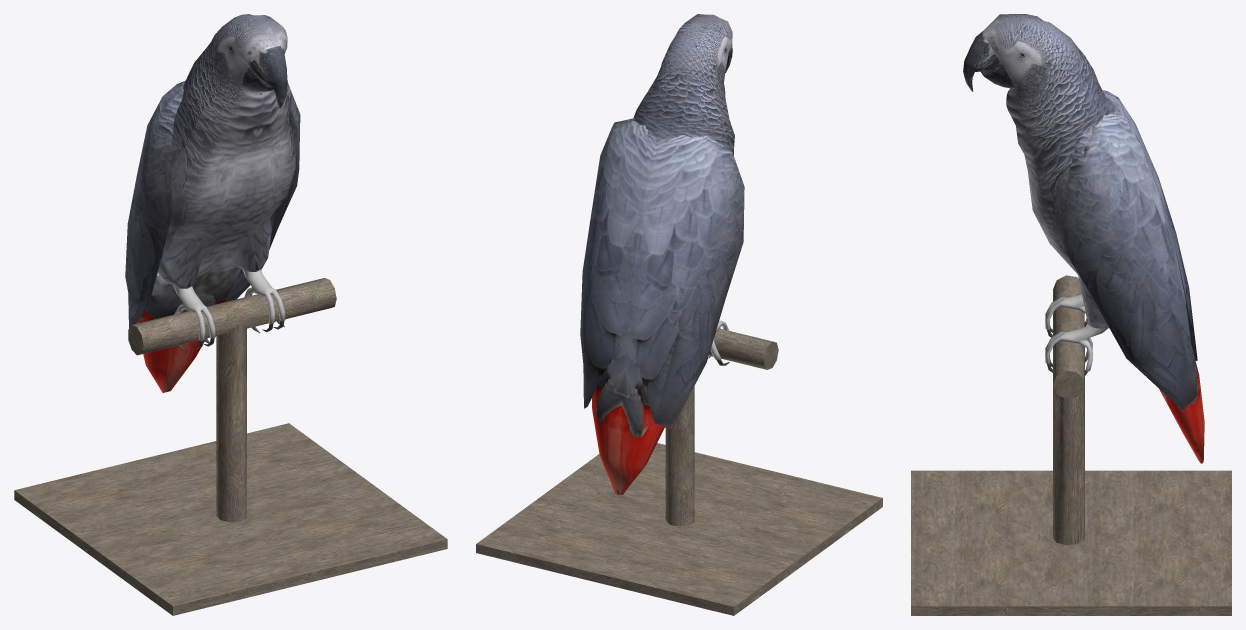
3 renders of one model, left to right at view 1: azimuth 30°, elevation 25°; view 2: azimuth 150°, elevation 25°; view 3: azimuth 270°, elevation 25°, orthographic. The views are drawn at different scales.
Visible parts, largest first — view 1: Parrot_stand, Parrot_body; view 2: Parrot_body, Parrot_stand; view 3: Parrot_stand, Parrot_body.
Part boxes in pixels (x1=…): Parrot_stand: x1=14, y1=278, x2=447, y2=615; Parrot_body: x1=125, y1=14, x2=300, y2=392; Parrot_body: x1=580, y1=14, x2=744, y2=494; Parrot_stand: x1=476, y1=328, x2=882, y2=615; Parrot_stand: x1=911, y1=275, x2=1231, y2=615; Parrot_body: x1=963, y1=14, x2=1204, y2=463.
Size of the model in its own units: 142 by 259 by 142.
2 materials, 2 textured.
